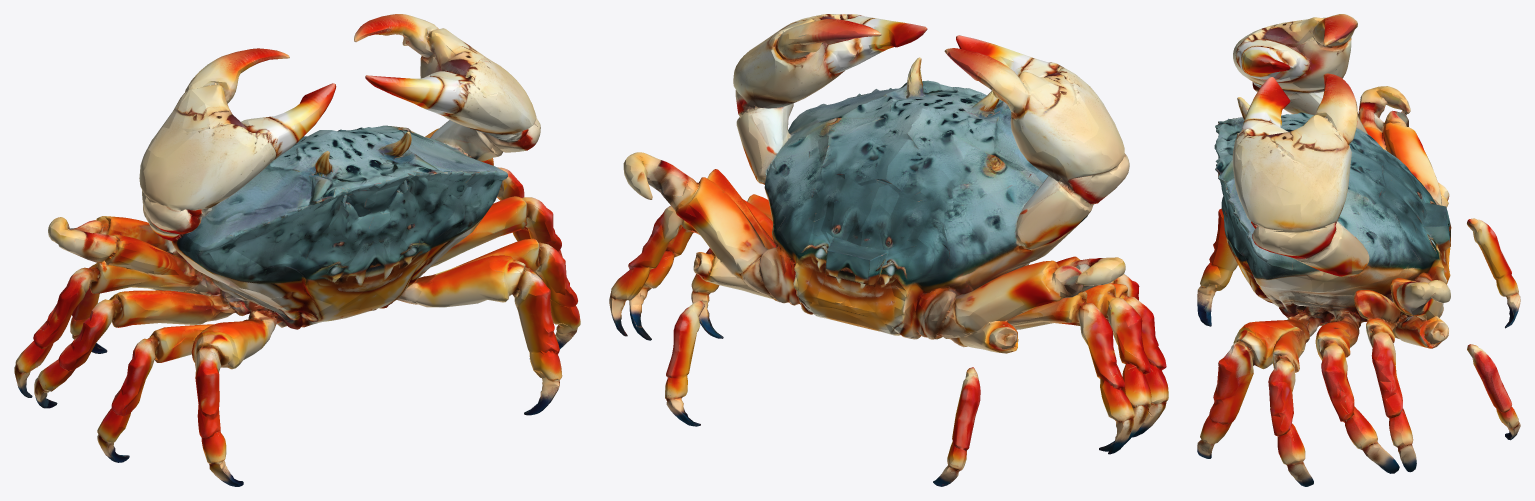
Rendered from giant_crab.glb.
3 renders of one model, left to right at view 1: azimuth 30°, elevation 25°; view 2: azimuth 150°, elevation 25°; view 3: azimuth 270°, elevation 25°, orthographic. The views are drawn at different scales.
Bounding box in the file's own units: 1.9 × 1.25 × 1.08.
1 material, 1 textured.
